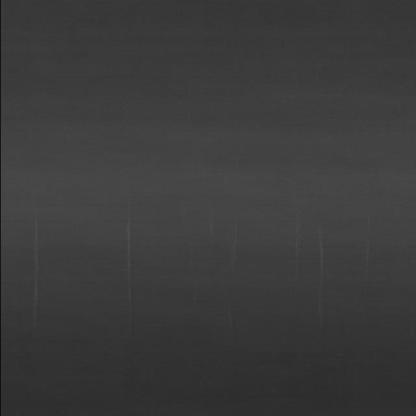waist_folding: (32, 208, 400, 348)
